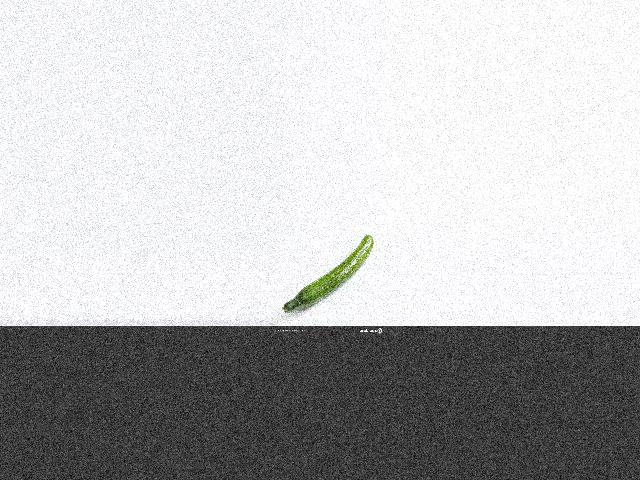cucumber: (281, 235, 372, 312)
